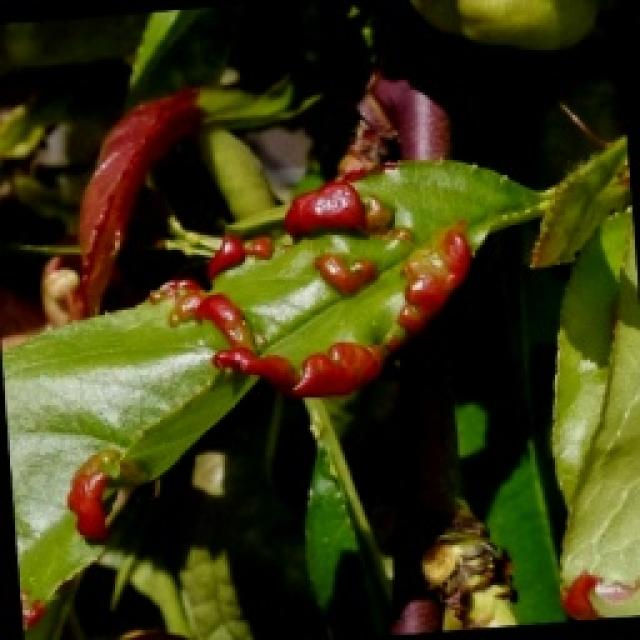peach_leaf_curl: (156, 174, 478, 399)
